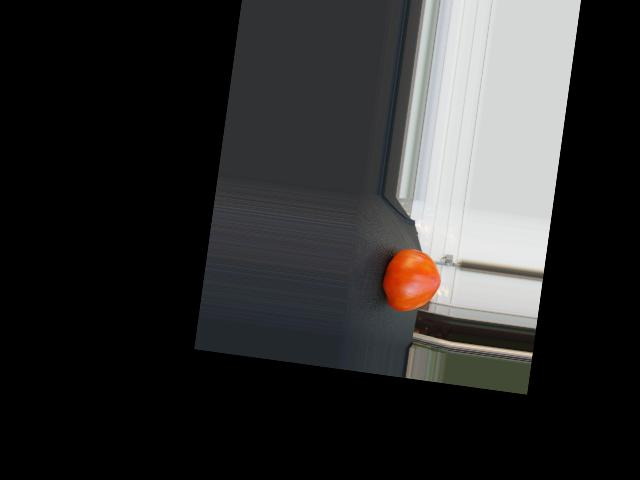tomato: (379, 245, 444, 315)
